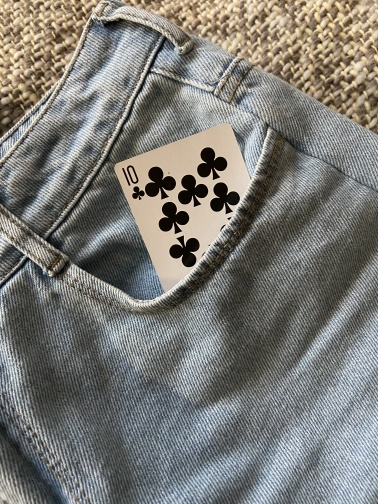ten: (112, 122, 286, 329)
